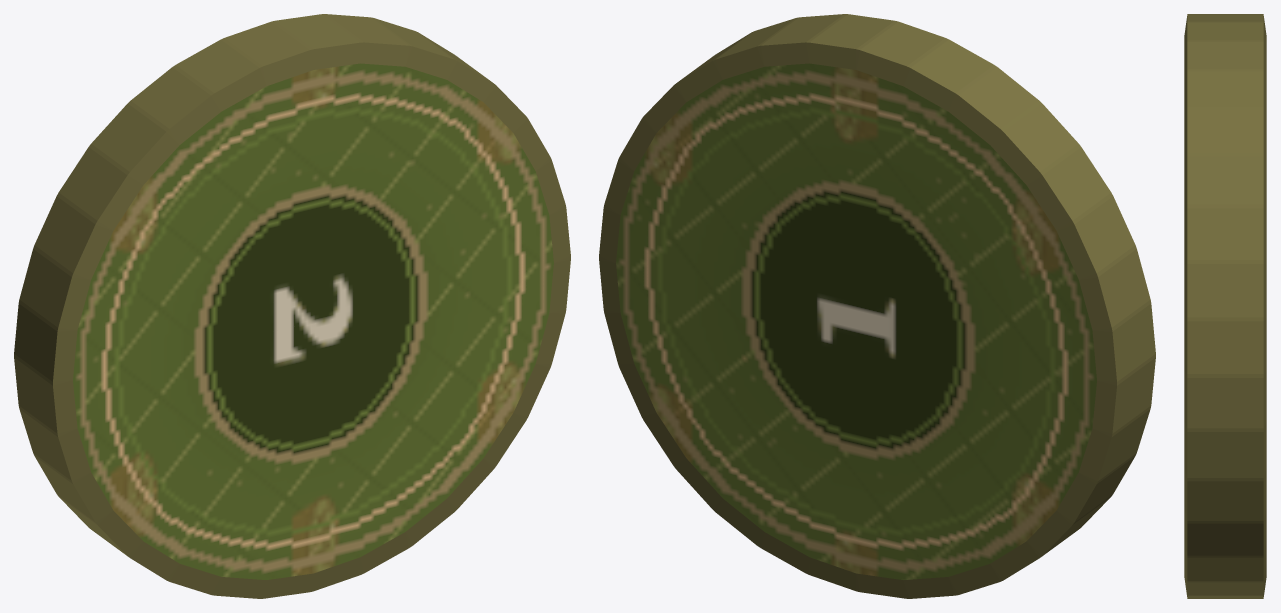
3 renders of one model, left to right at view 1: azimuth 30°, elevation 25°; view 2: azimuth 150°, elevation 25°; view 3: azimuth 270°, elevation 25°, orthographic. The views are drawn at different scales.
Size of the model in its own units: 101 by 101 by 14.14.
1 material, 1 textured.
